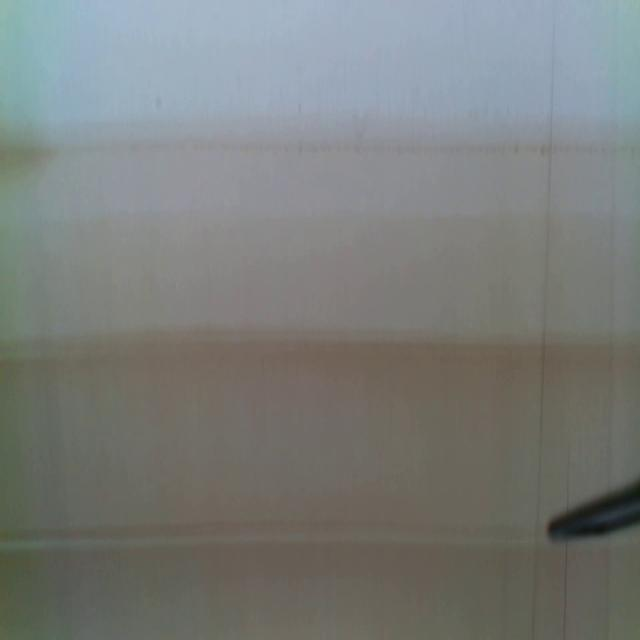color bleeding: (8, 319, 630, 420), (0, 114, 639, 195), (2, 514, 542, 581)
crease: (537, 11, 558, 488), (529, 496, 541, 638), (560, 543, 571, 640), (564, 449, 574, 508)
